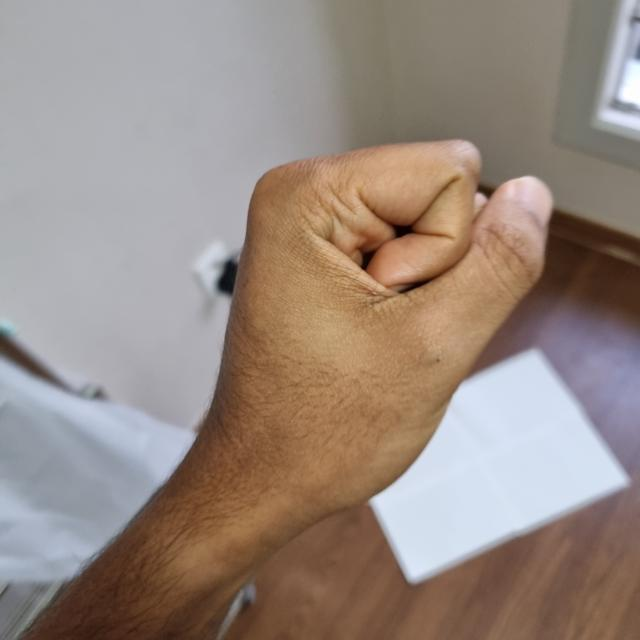Rock: (203, 134, 549, 517)
